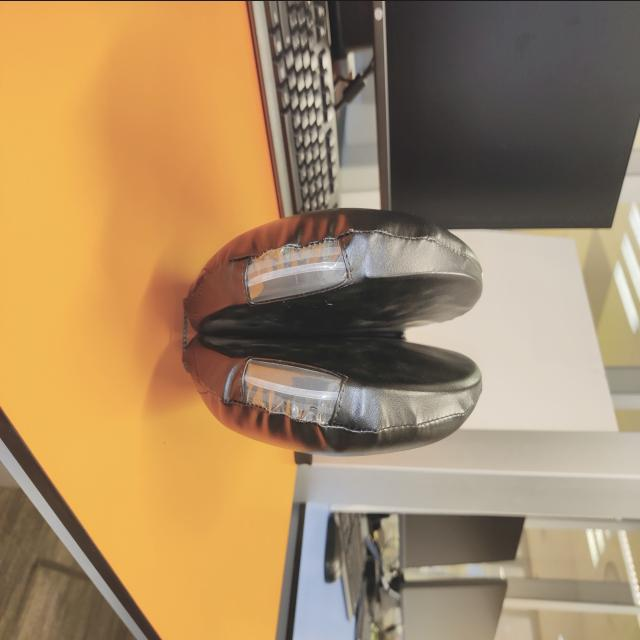paddle: (179, 203, 488, 458)
